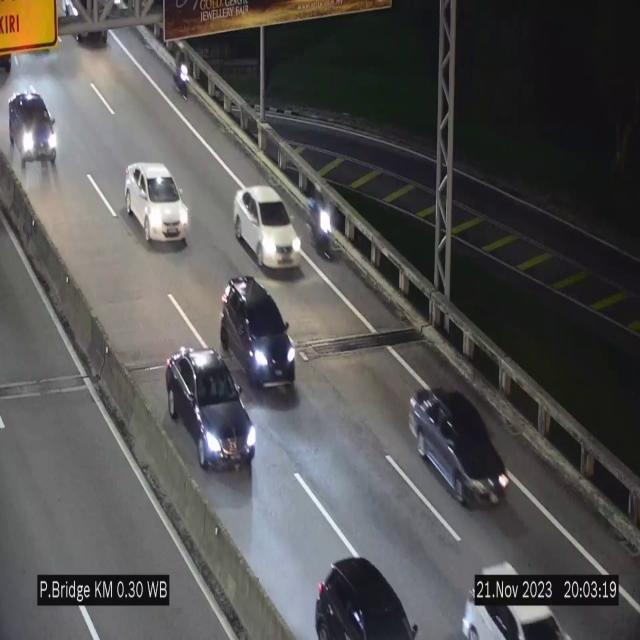Car: (306, 532, 422, 640), (408, 387, 512, 505), (166, 348, 255, 467), (456, 546, 567, 640), (220, 276, 296, 391), (233, 186, 301, 269), (124, 162, 189, 244), (6, 90, 61, 168)
Motorcycle: (309, 194, 336, 264), (170, 44, 190, 110)
